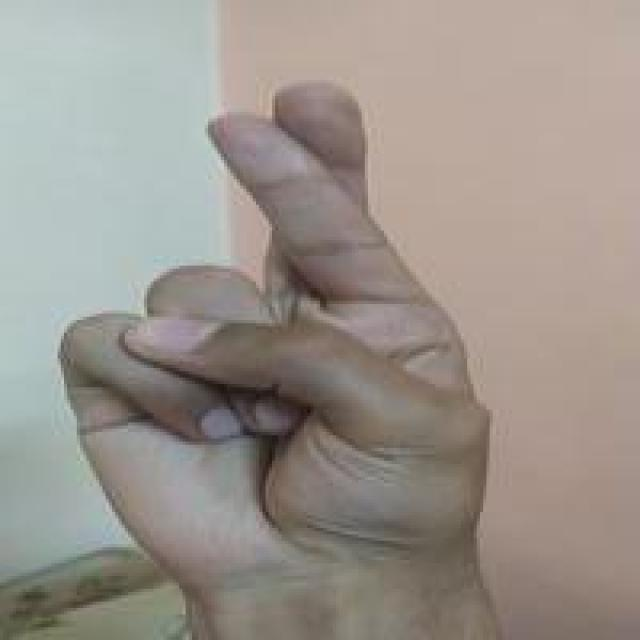R: (52, 69, 498, 568)
